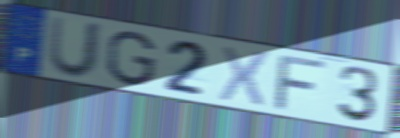2: (161, 40, 211, 99)
3: (336, 66, 381, 125)
F: (271, 54, 331, 113)
G: (105, 30, 158, 88)
U: (45, 14, 106, 81)
X: (217, 44, 273, 110)
